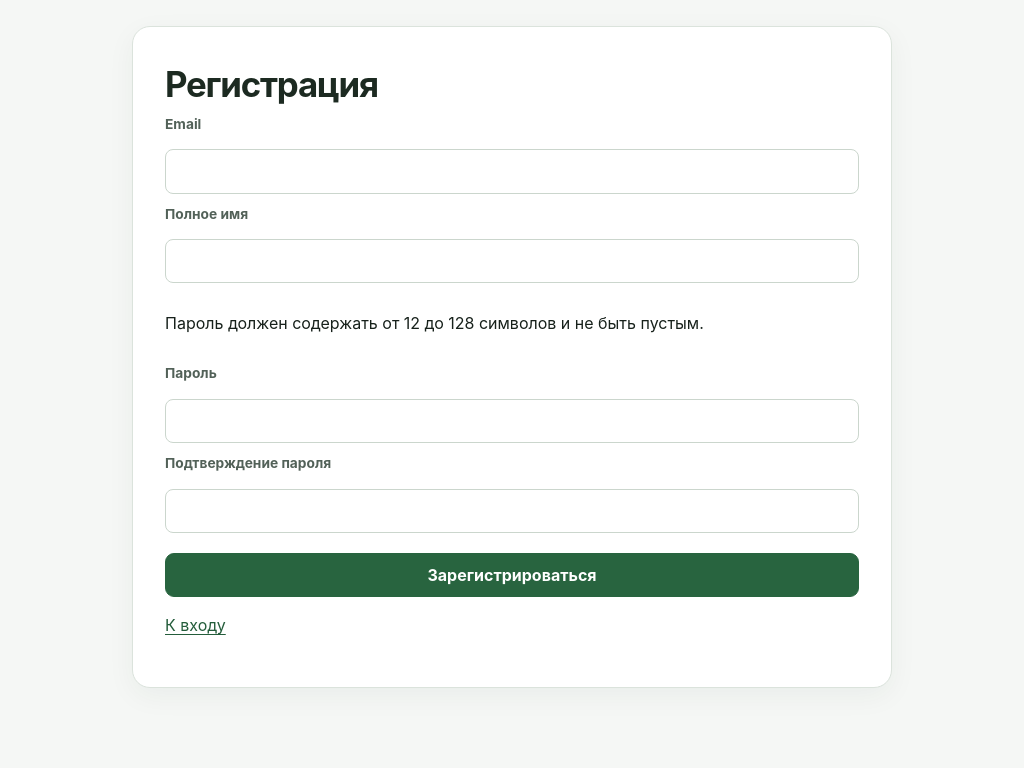
Test: Accounts › registers then directs to login
In the field labelled "Email": (512, 171) 165,149 -> 859,194, type "New@Example.com"
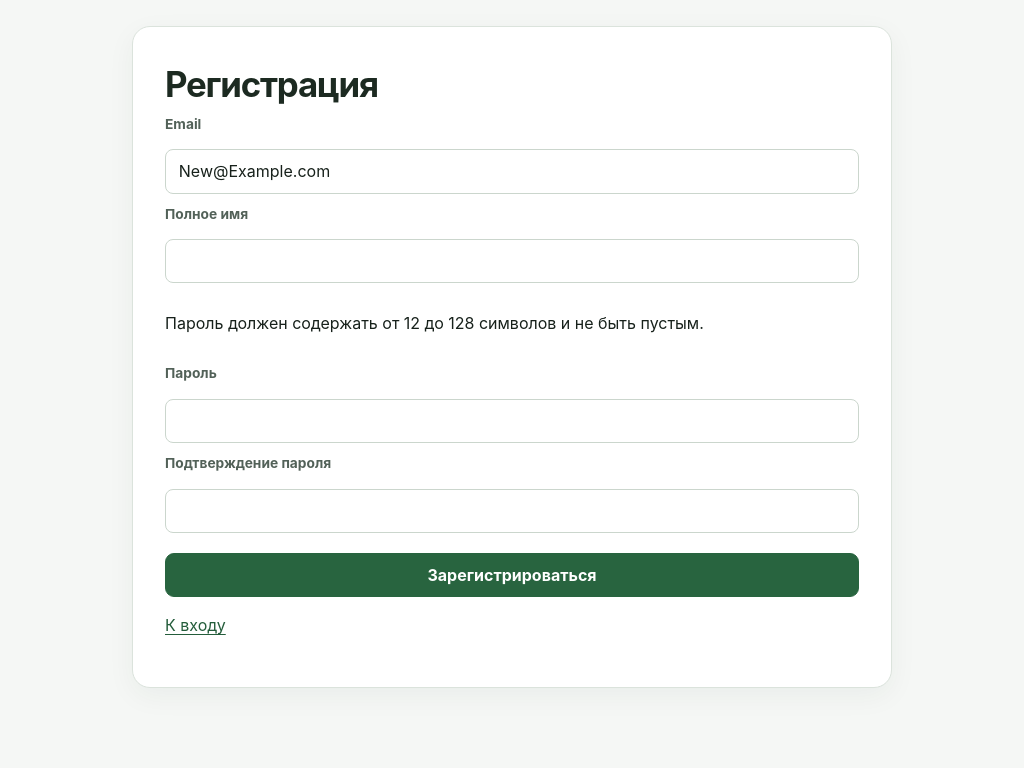
In the field labelled "Полное имя": (512, 261) 165,239 -> 859,284, type "New User"
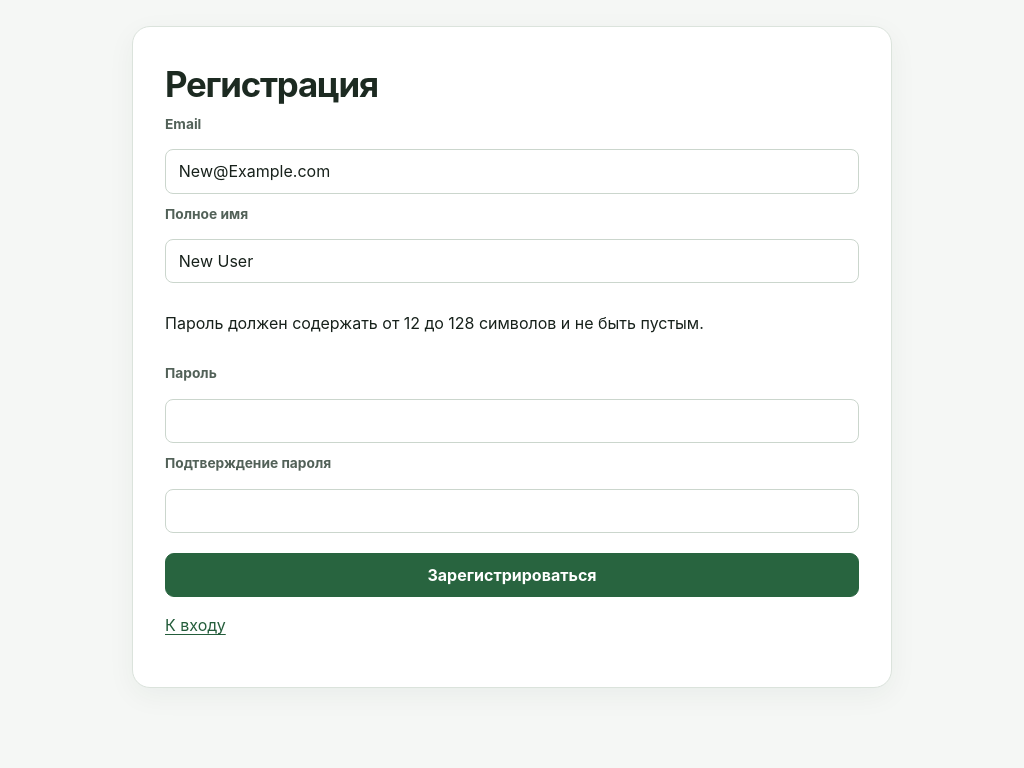
In the password field labelled "Пароль": (512, 421) 165,399 -> 859,443, type "secure-password-24"
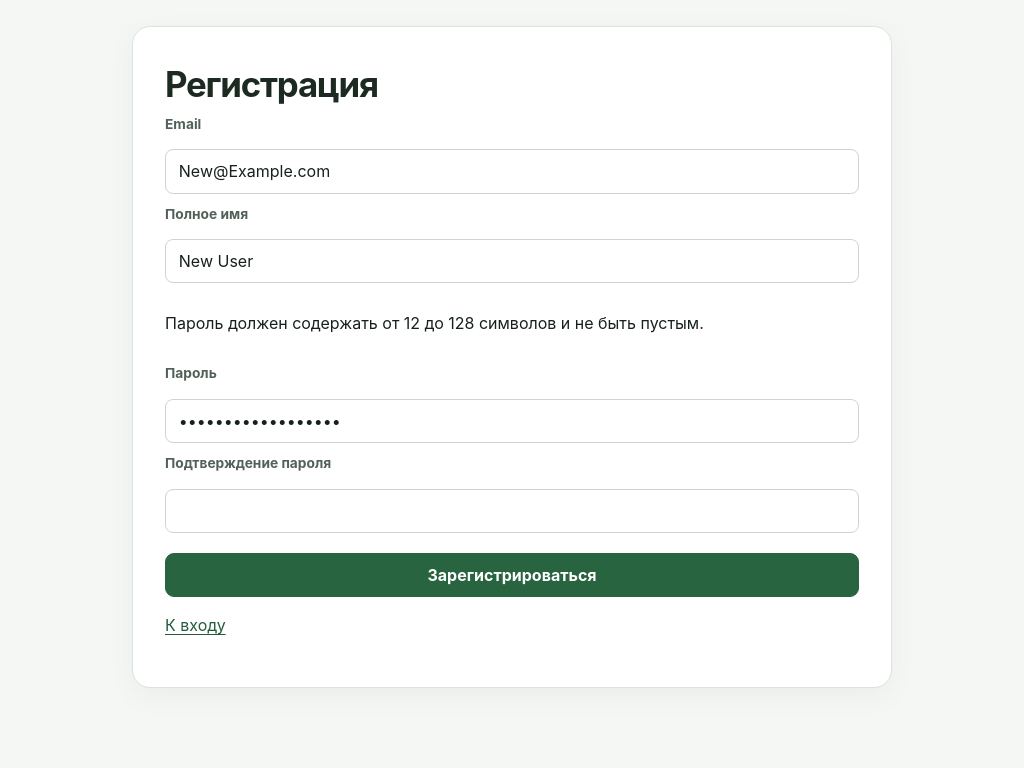
In the password field labelled "Подтверждение пароля": (512, 511) 165,489 -> 859,533, type "secure-password-24"
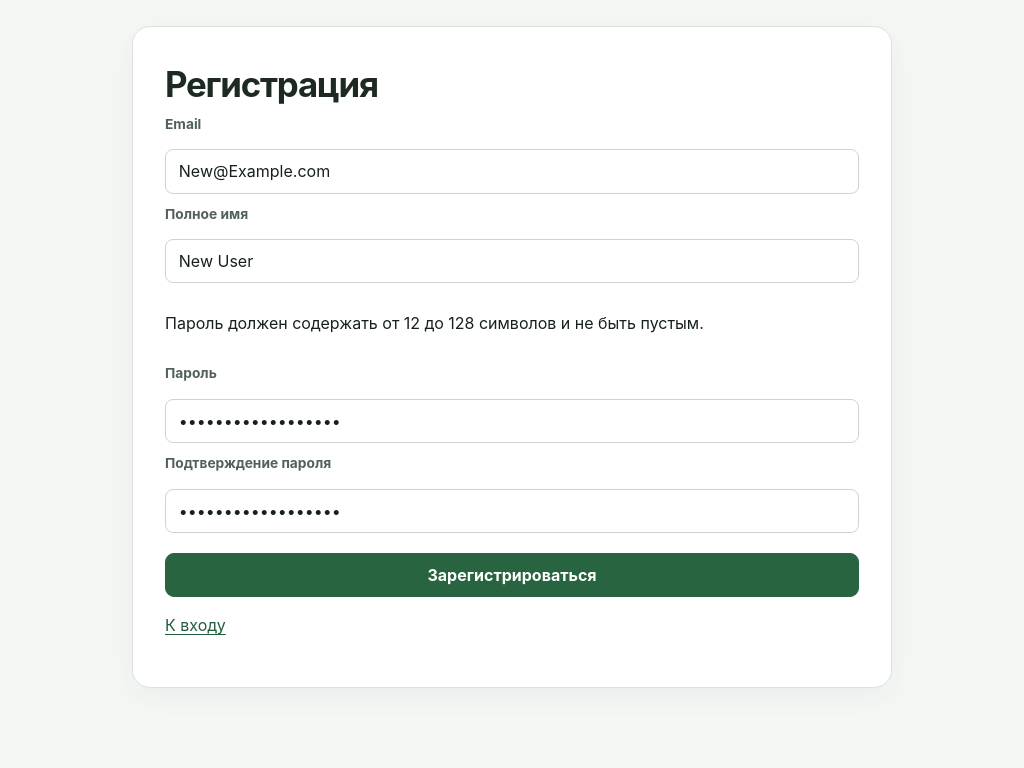
Click the button "Зарегистрироваться": (512, 575) 165,553 -> 859,597
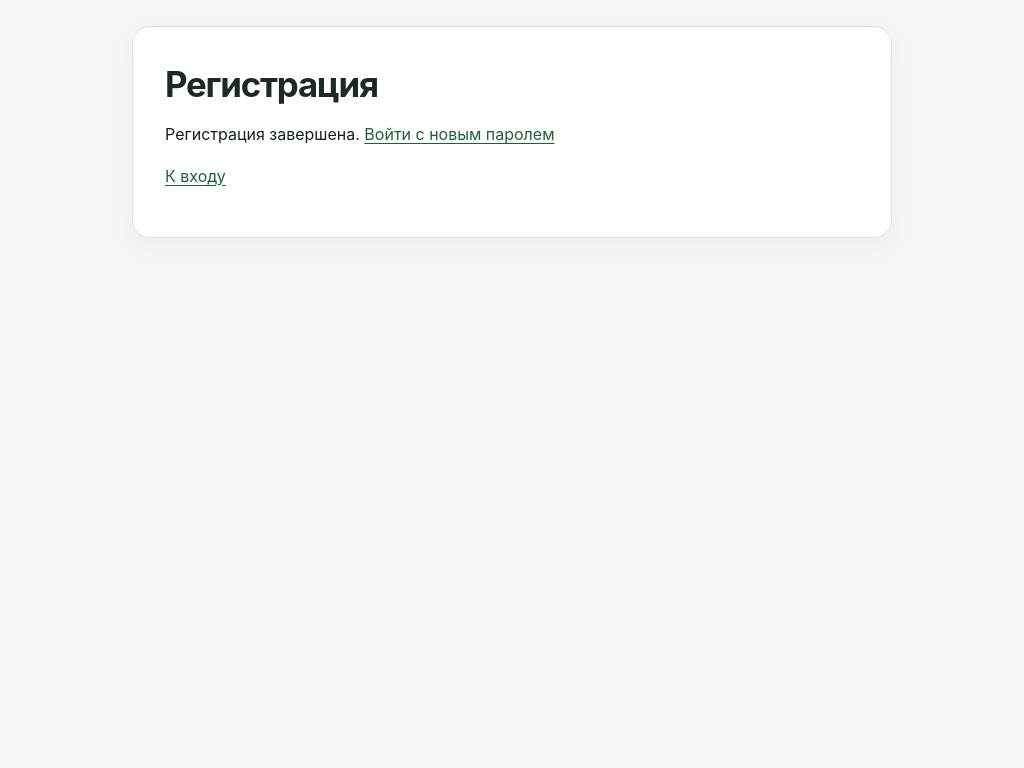
Expected: the text "Регистрация завершена. Войти с новым паролем" is shown, 165,124 -> 554,144
